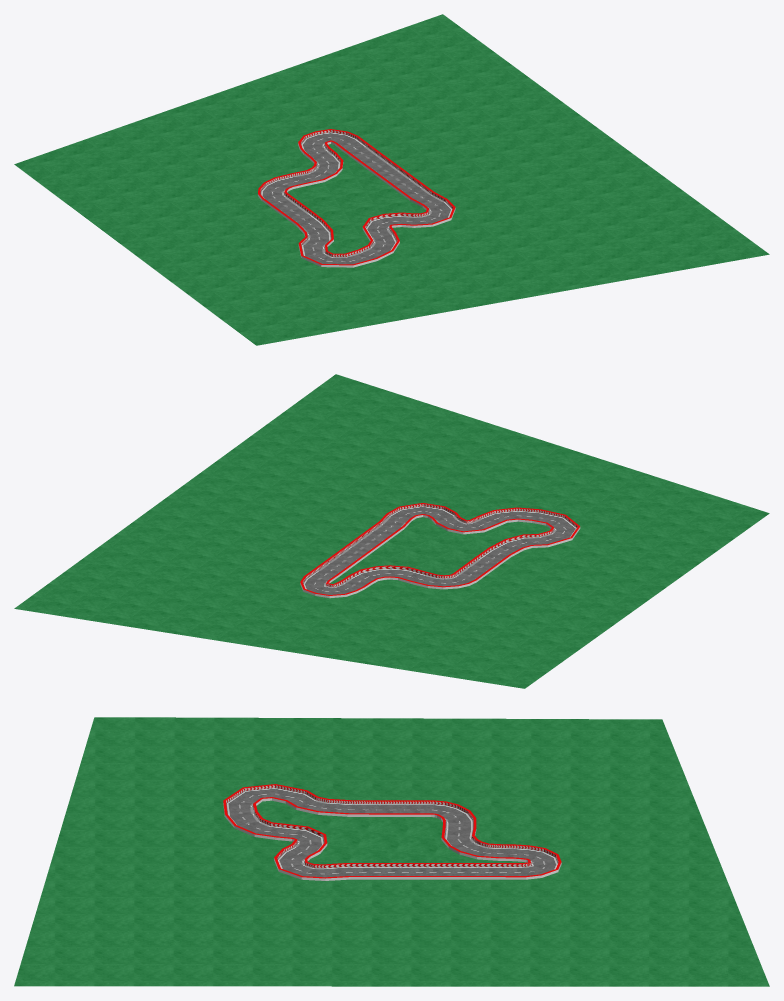
The model's file is track1.glb.
The picture shows the model from 3 angles, top to bottom: view 1: azimuth 30°, elevation 25°; view 2: azimuth 150°, elevation 25°; view 3: azimuth 270°, elevation 25°; orthographic projection. The views are drawn at different scales.
Parts seen in each view (by area): view 1: Plane; view 2: Plane; view 3: Plane.
Part boxes in pixels (box(x1,y1,x2,y2)): Plane: box(14, 14, 769, 345); Plane: box(14, 374, 769, 688); Plane: box(14, 717, 769, 986).
Bounding box in the file's own units: 45.54 × 0.2 × 53.96.
Materials: 3 (3 with a texture image).
